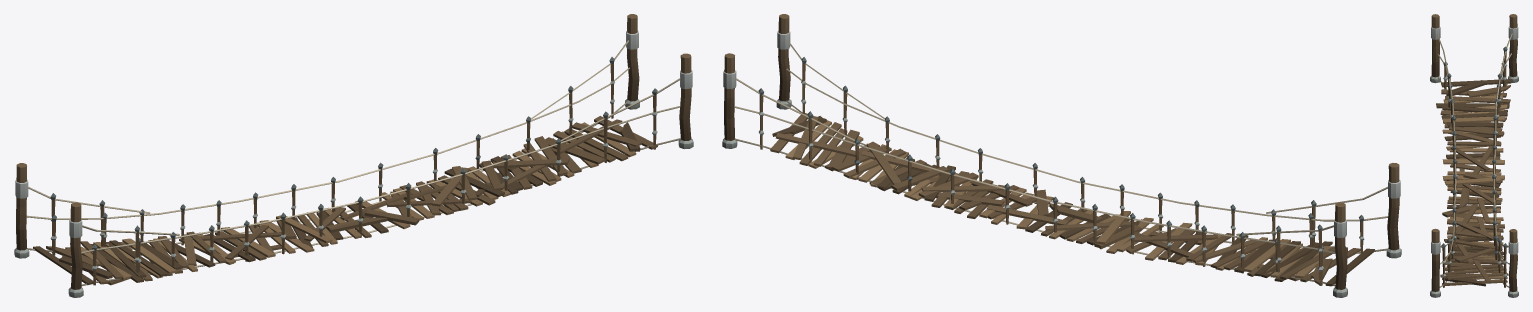
Rendered from ZLP_Build_F_34.FBX.
3 renders of one model, left to right at view 1: azimuth 30°, elevation 25°; view 2: azimuth 150°, elevation 25°; view 3: azimuth 270°, elevation 25°, orthographic. The views are drawn at different scales.
Parts seen in each view (by area): view 1: ZLP_Build_F_34; view 2: ZLP_Build_F_34; view 3: ZLP_Build_F_34.
Part boxes in pixels (left/top/right/bottom): ZLP_Build_F_34: left=14, top=14, right=693, bottom=297; ZLP_Build_F_34: left=722, top=14, right=1401, bottom=297; ZLP_Build_F_34: left=1430, top=14, right=1518, bottom=297.
Size of the model in its own units: 1344 by 238 by 230.
